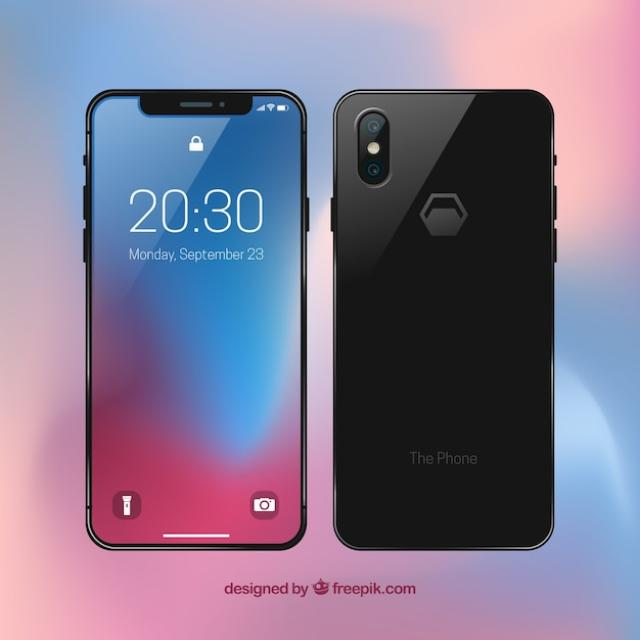Smartphone: (82, 88, 316, 556)
